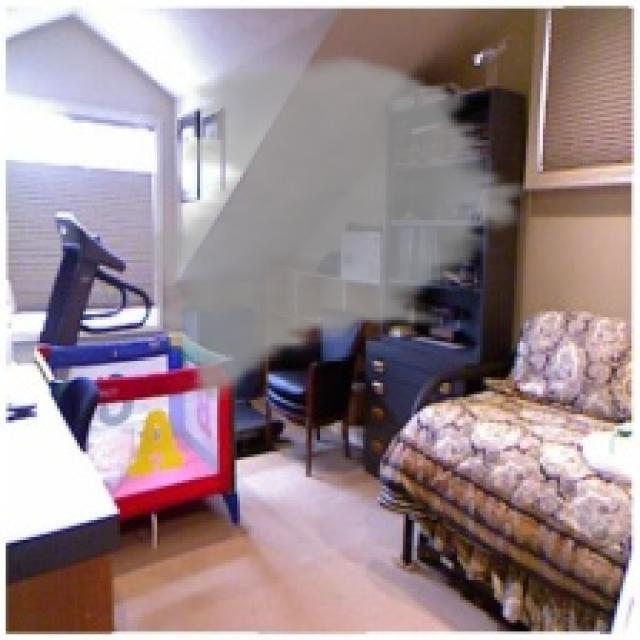Smoke: (126, 51, 534, 403)
